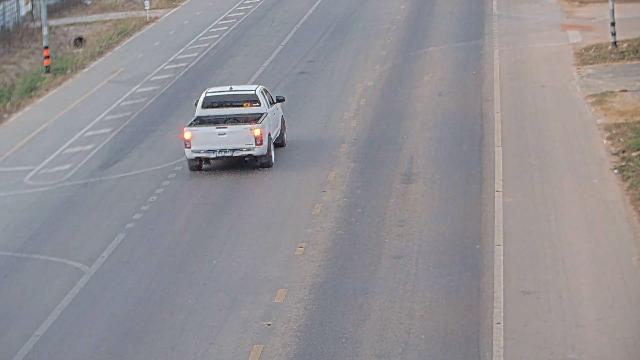pickup-truck: (182, 84, 287, 171)
